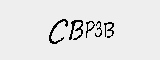В: (69, 19, 83, 40), (104, 20, 117, 39)
З: (92, 19, 103, 39)
Р: (84, 19, 93, 39)
С: (48, 18, 65, 43)
